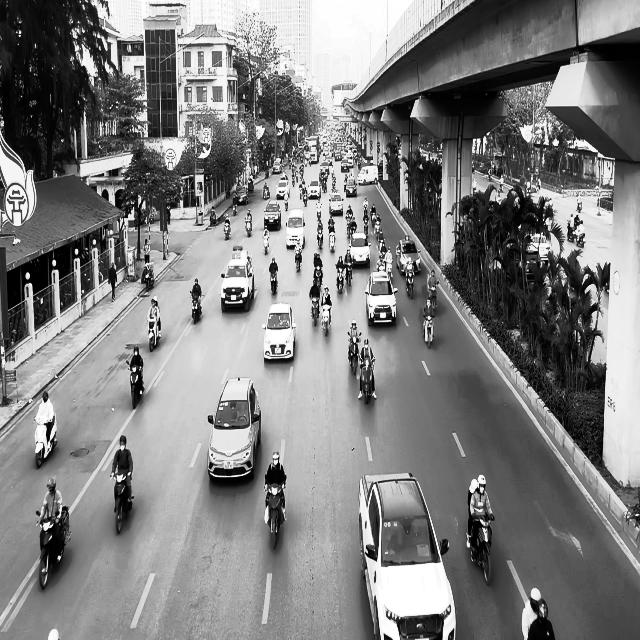car: (358, 471, 456, 640), (207, 376, 261, 481), (220, 248, 255, 312), (262, 302, 296, 362), (364, 271, 398, 325), (285, 208, 306, 249), (396, 239, 420, 274), (350, 232, 370, 268), (264, 200, 282, 230), (329, 192, 343, 215), (307, 178, 321, 198), (276, 179, 289, 199), (235, 186, 249, 204), (345, 177, 357, 196)
motorbike: (35, 505, 71, 590), (466, 515, 494, 585), (264, 480, 286, 550), (110, 471, 133, 534), (34, 414, 58, 468), (126, 358, 144, 409), (358, 354, 376, 404), (147, 315, 161, 351), (348, 333, 360, 375), (422, 306, 434, 347), (190, 290, 202, 324), (321, 301, 332, 335), (309, 293, 320, 326), (143, 263, 154, 291), (405, 272, 414, 298), (270, 268, 278, 294), (294, 247, 302, 272), (263, 231, 269, 254), (245, 218, 252, 237), (223, 221, 230, 240)
